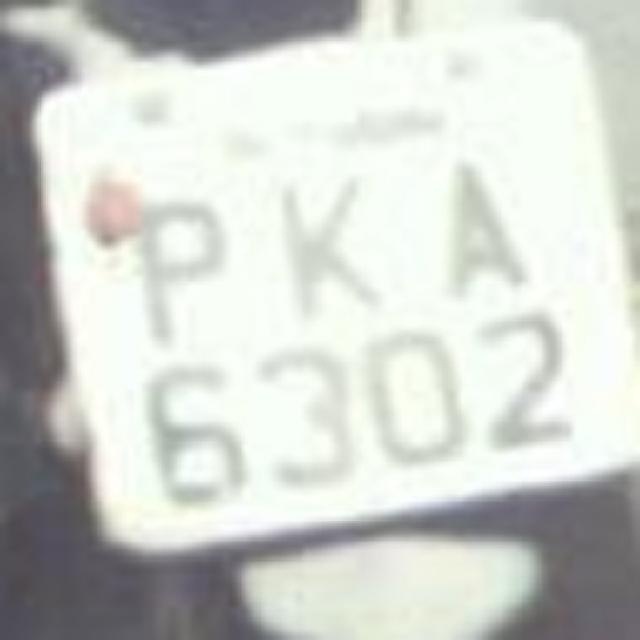0: (352, 300, 480, 480)
2: (448, 289, 600, 456)
3: (236, 324, 384, 504)
6: (120, 344, 272, 531)
P: (116, 185, 229, 360)
X: (244, 156, 391, 329)
